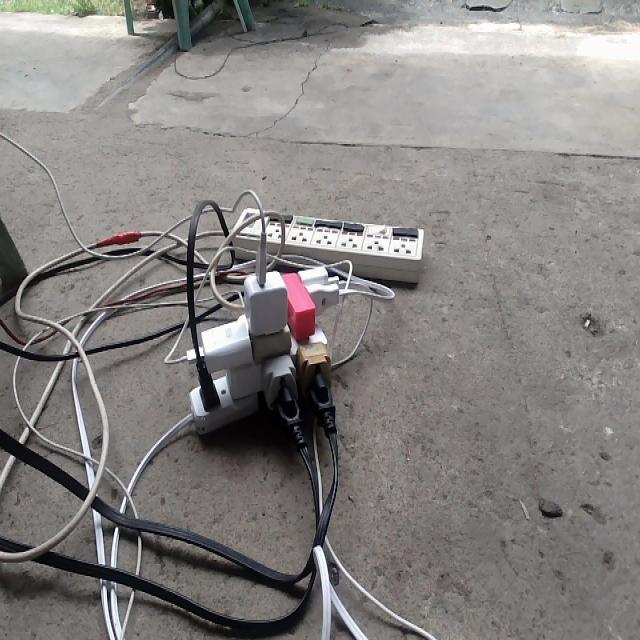-: (183, 264, 340, 436)
